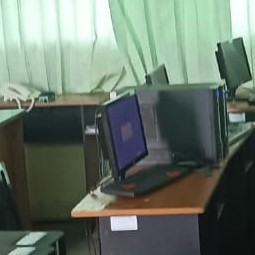monitor: (134, 81, 229, 169), (97, 90, 149, 182), (215, 37, 252, 91)
